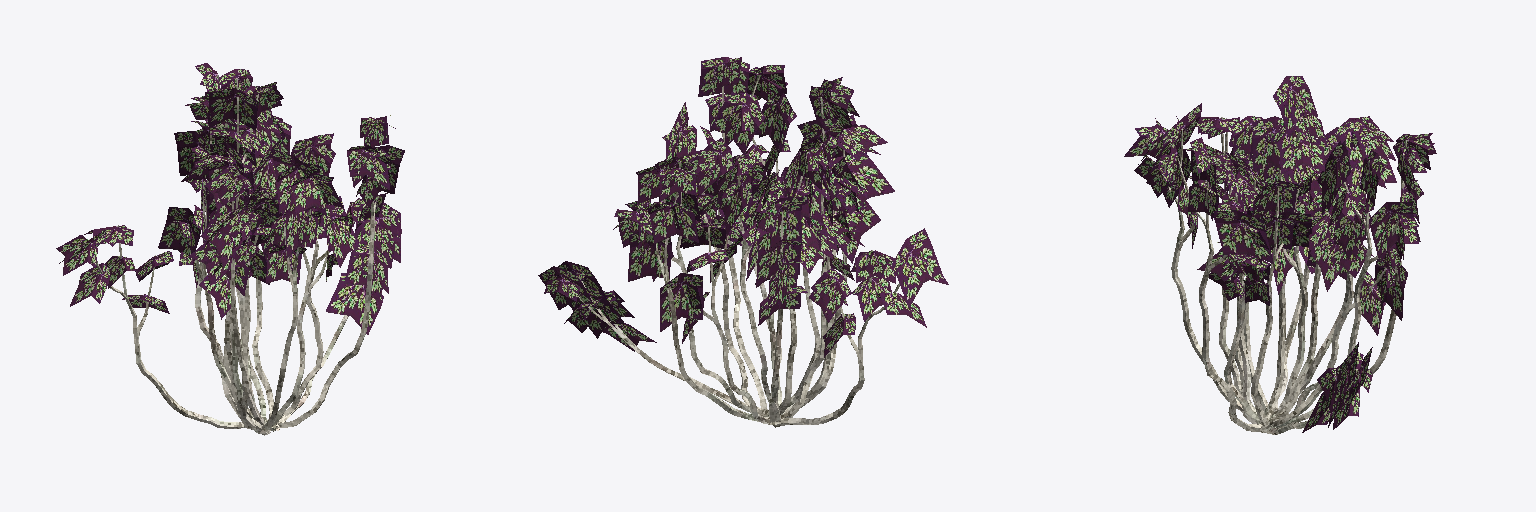
The picture shows the model from 3 angles: view 1: azimuth 30°, elevation 25°; view 2: azimuth 150°, elevation 25°; view 3: azimuth 270°, elevation 25°; orthographic projection.
Visible parts, largest first — view 1: Bush_1_3; view 2: Bush_1_3; view 3: Bush_1_3.
Part boxes in pixels (x1,y1,x2,y2): Bush_1_3: (56,63,404,435); Bush_1_3: (538,57,948,427); Bush_1_3: (1124,76,1436,434).
Bounding box in the file's own units: 0.8022 × 0.6972 × 0.5819.
Materials: 1 (1 with a texture image).